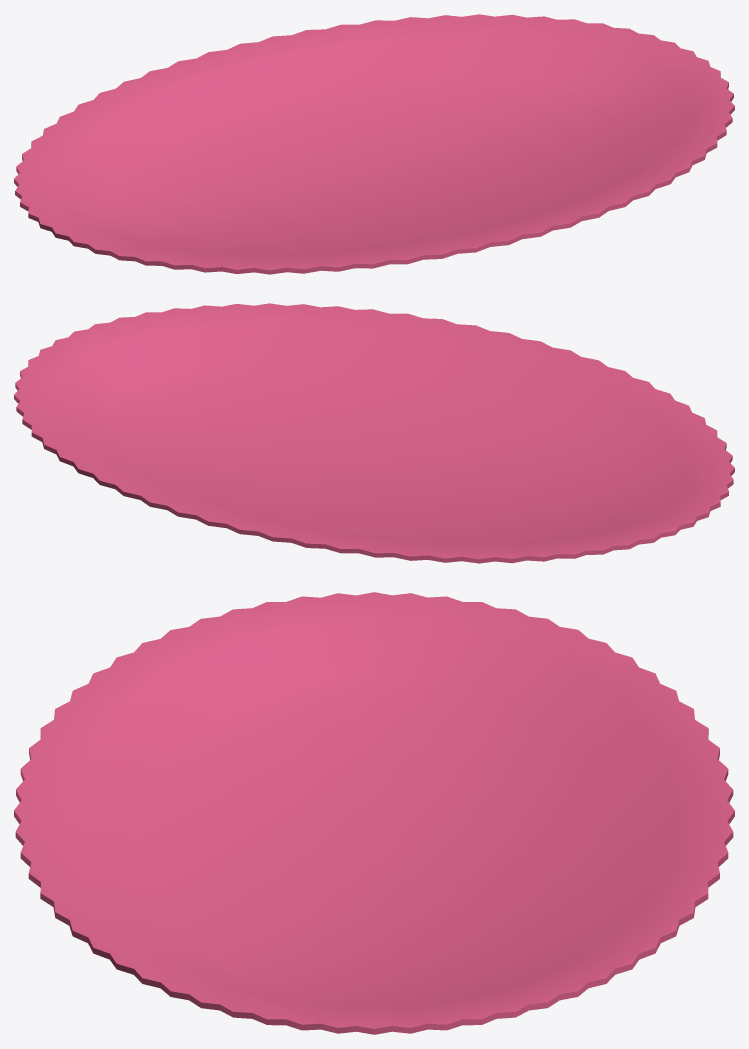
Rendered from Tableware_V5_2.fbx.
3 renders of one model, top to bottom at view 1: azimuth 30°, elevation 25°; view 2: azimuth 150°, elevation 25°; view 3: azimuth 270°, elevation 25°, orthographic. The views are drawn at different scales.
Visible parts, largest first — view 1: SM_Tableware_V5_2; view 2: SM_Tableware_V5_2; view 3: SM_Tableware_V5_2.
Boxes of the visible parts, x1=… form: SM_Tableware_V5_2: x1=14, y1=14, x2=734, y2=274; SM_Tableware_V5_2: x1=14, y1=303, x2=734, y2=563; SM_Tableware_V5_2: x1=14, y1=592, x2=734, y2=1034.
Bounding box in the file's own units: 32.5 × 1.19 × 22.67.
